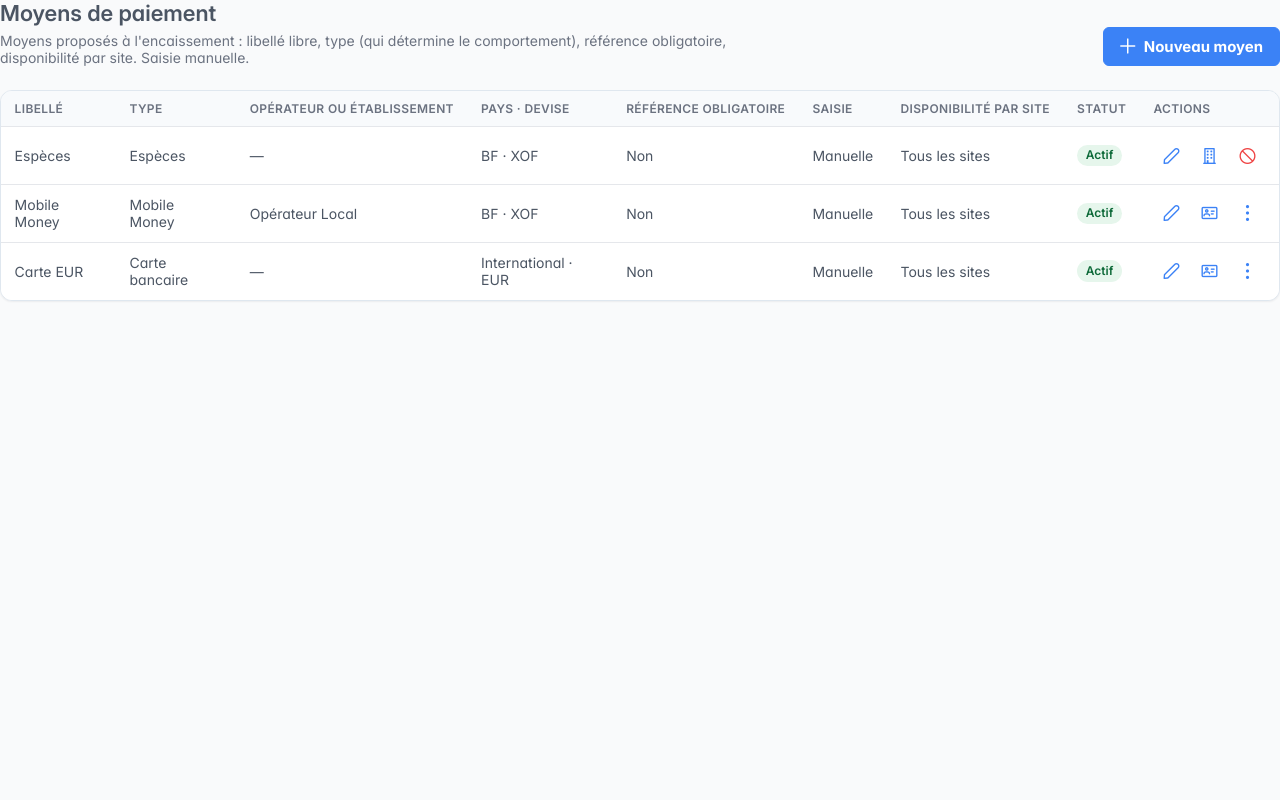
Test case: administration des moyens de réception (R6.5) › devise différente de celle des ventes : avertissement explicite
Click the button named "Modifier" in the row of "Carte EUR" at (1171, 271), box x1=1153 y1=253 x2=1189 y2=289
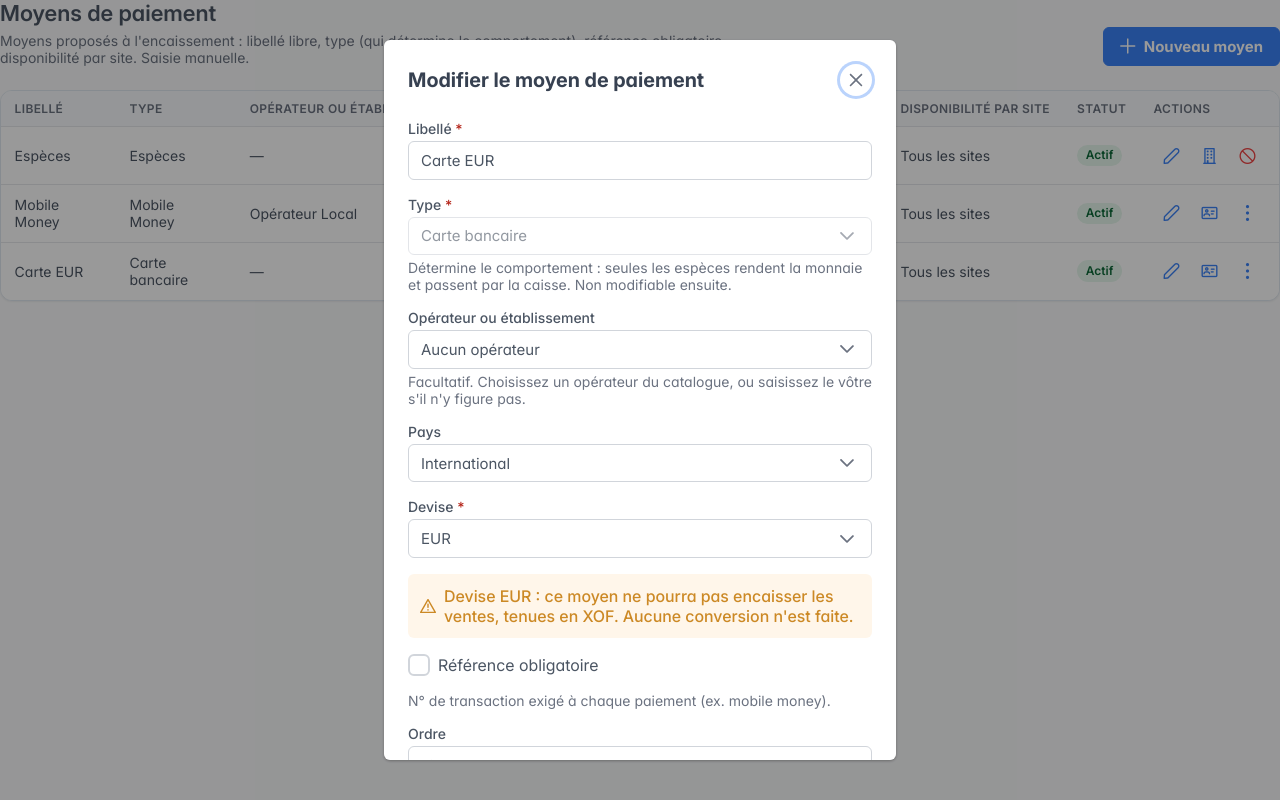
Result: the dialog shows "ce moyen ne pourra pas encaisser les ventes, tenues en XOF" at x1=444 y1=586 x2=854 y2=626
